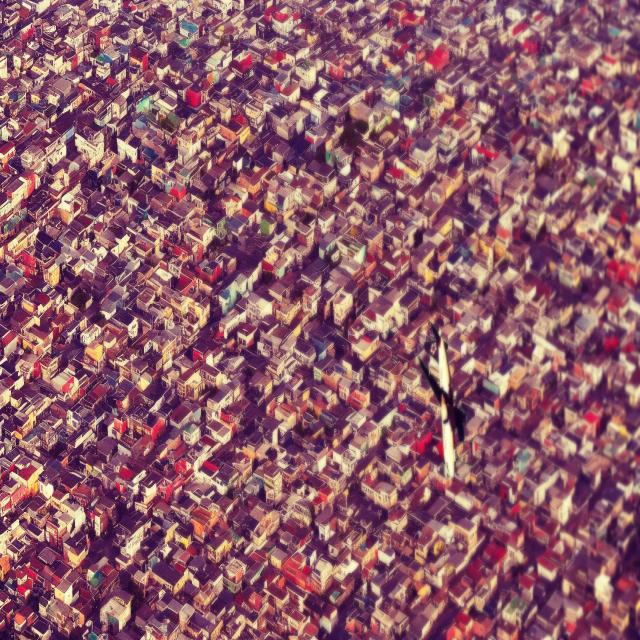airplane: (417, 321, 467, 484)
